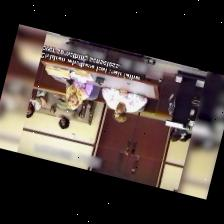person: (102, 87, 147, 121), (51, 93, 79, 128), (66, 80, 93, 109), (26, 89, 45, 117), (171, 127, 185, 140), (180, 132, 192, 141)
